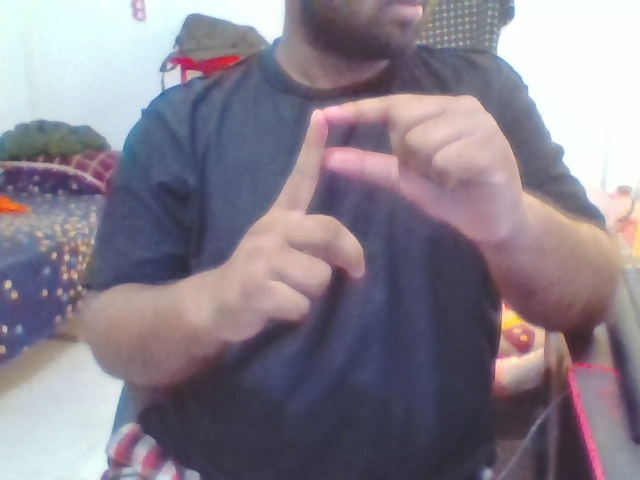P: (226, 87, 535, 349)
